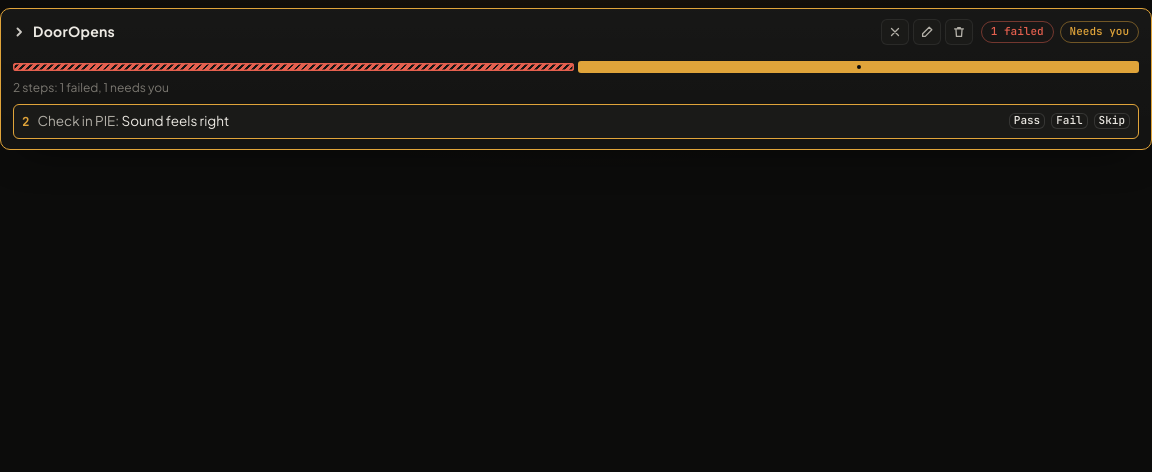
Test: the loop on the playtest card › shows Needs you with the reason and the evidence
This screenshot has width=1152, height=472.
Click the button "DoorOpens" at (64, 32), box left=13, top=21, right=115, bottom=43
(page scrolled)
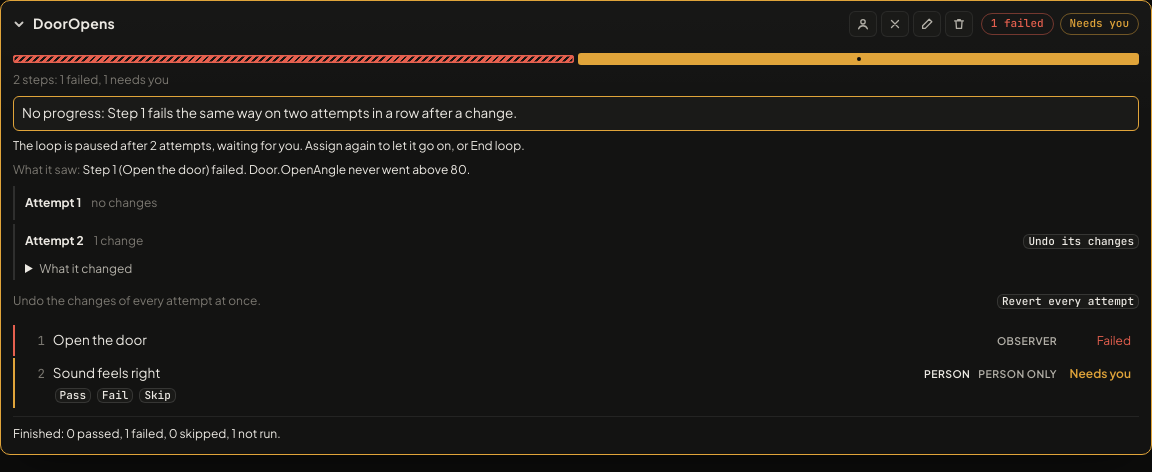
Check: the message named "Loop: Needs you" reads "Needs you", box left=1070, top=16, right=1129, bottom=30
Check: the list item "Door.OpenAngle never went above 80" is shown, box left=83, top=162, right=470, bottom=177
Check: the text "paused after 2 attempts, waiting for you" is shown, box left=13, top=138, right=525, bottom=152
